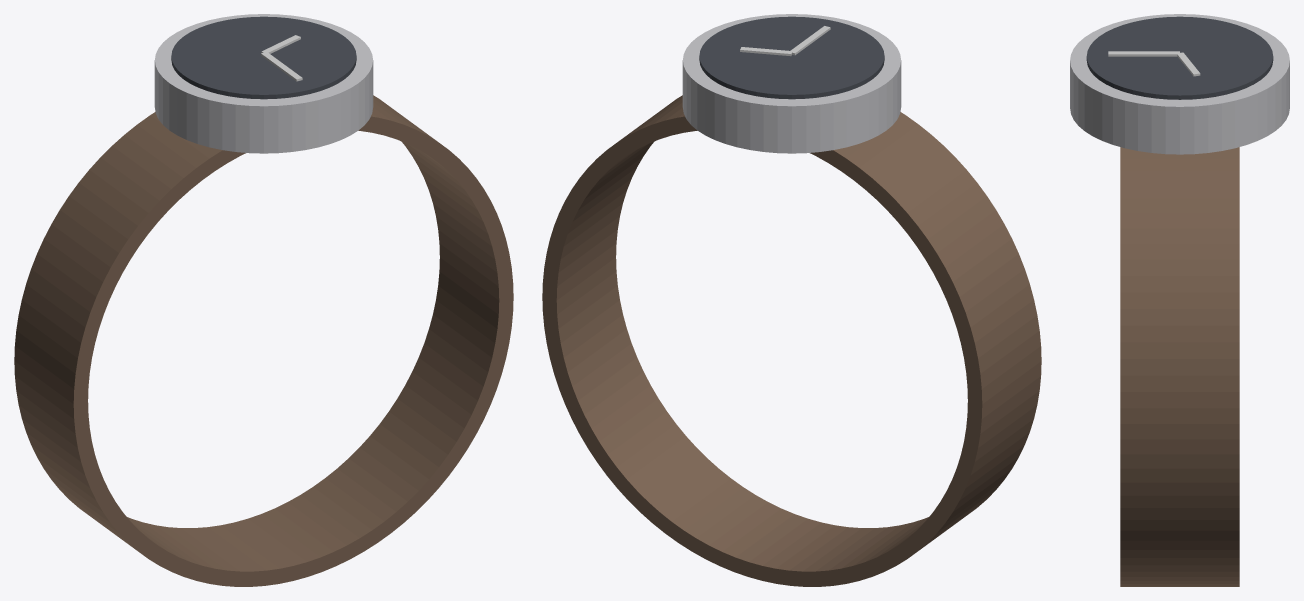
Rendered from leather_watch_3d.glb.
3 views of the same model, side by side, from view 1: azimuth 30°, elevation 25°; view 2: azimuth 150°, elevation 25°; view 3: azimuth 270°, elevation 25° (orthographic).
Parts seen in each view (by area): view 1: geometry_0; view 2: geometry_0; view 3: geometry_0.
Boxes of the visible parts, bbox=[...] form: geometry_0: bbox=[14, 14, 513, 586]; geometry_0: bbox=[542, 14, 1041, 586]; geometry_0: bbox=[1070, 14, 1289, 586].
Bounding box in the file's own units: 2.14 × 2.36 × 0.92.
